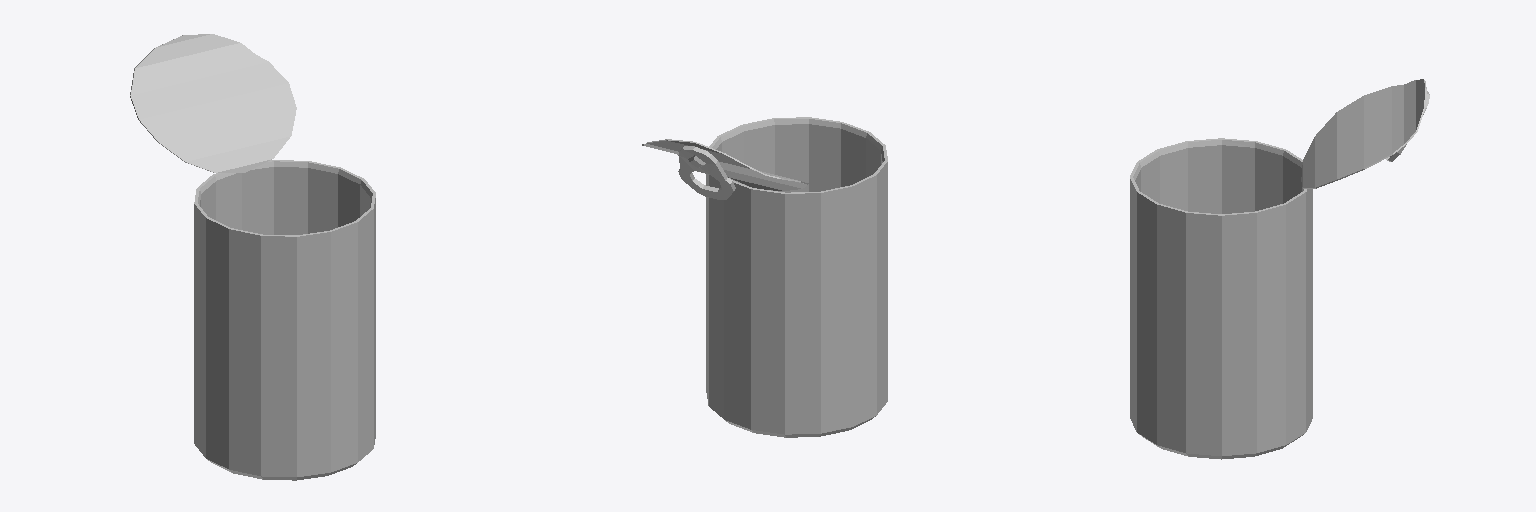
File: tin_can_mp_1_rusty.obj
3 views of the same model, side by side, from view 1: azimuth 30°, elevation 25°; view 2: azimuth 150°, elevation 25°; view 3: azimuth 270°, elevation 25° (orthographic).
Visible parts, largest first — view 1: tin_can_mp_1_rusty; view 2: tin_can_mp_1_rusty; view 3: tin_can_mp_1_rusty.
Part boxes in pixels (x1,y1,x2,y2): tin_can_mp_1_rusty: (130, 34, 375, 480); tin_can_mp_1_rusty: (642, 117, 887, 437); tin_can_mp_1_rusty: (1130, 79, 1429, 459).
Bounding box in the file's own units: 0.112 × 0.2256 × 0.1833.